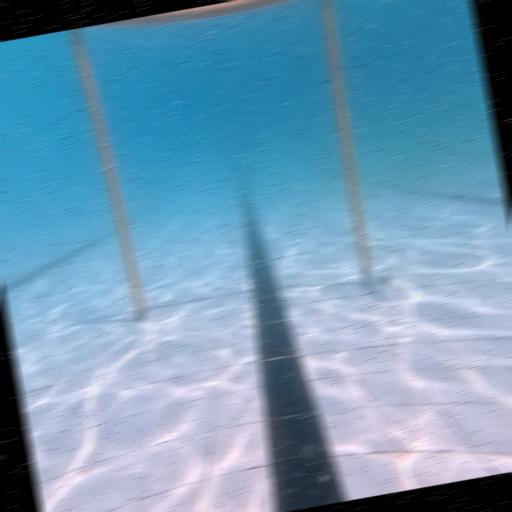gate: (68, 0, 392, 333)
